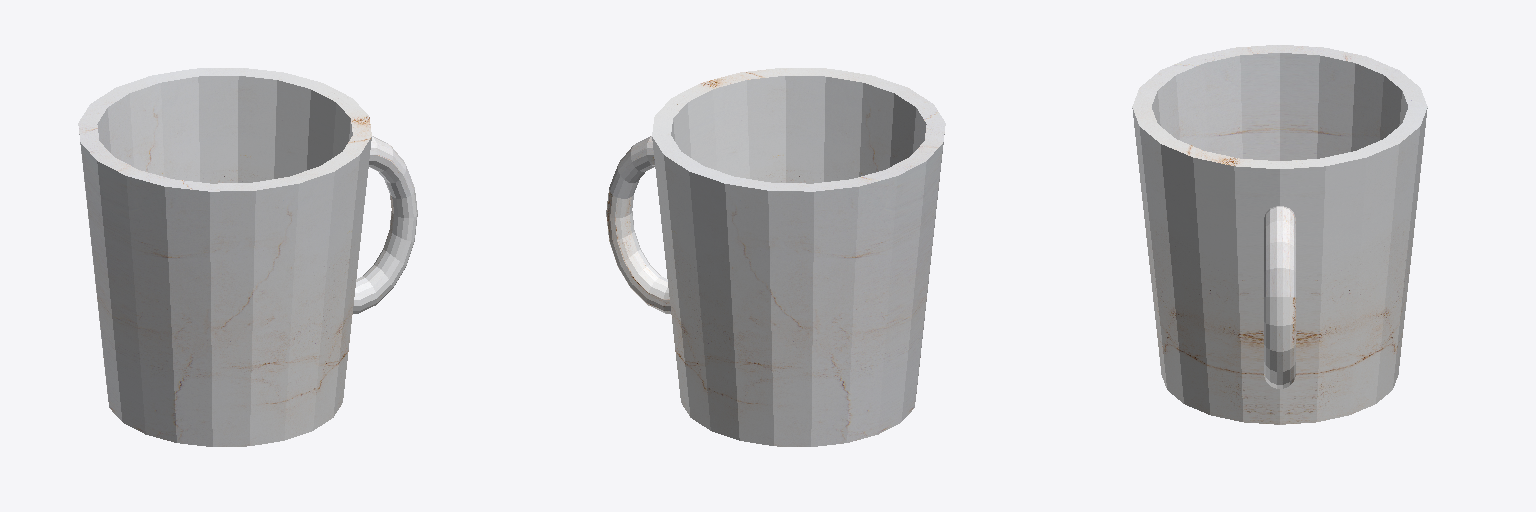
The picture shows the model from 3 angles: view 1: azimuth 30°, elevation 25°; view 2: azimuth 150°, elevation 25°; view 3: azimuth 270°, elevation 25°; orthographic projection.
Visible parts, largest first — view 1: pCylinder4; view 2: pCylinder4; view 3: pCylinder4.
Part boxes in pixels (x1,y1,x2,y2): pCylinder4: (78, 68, 417, 446); pCylinder4: (606, 68, 945, 446); pCylinder4: (1132, 45, 1427, 424).
Size of the model in its own units: 0.1899 by 0.153 by 0.153.
Materials: 1 (1 with a texture image).